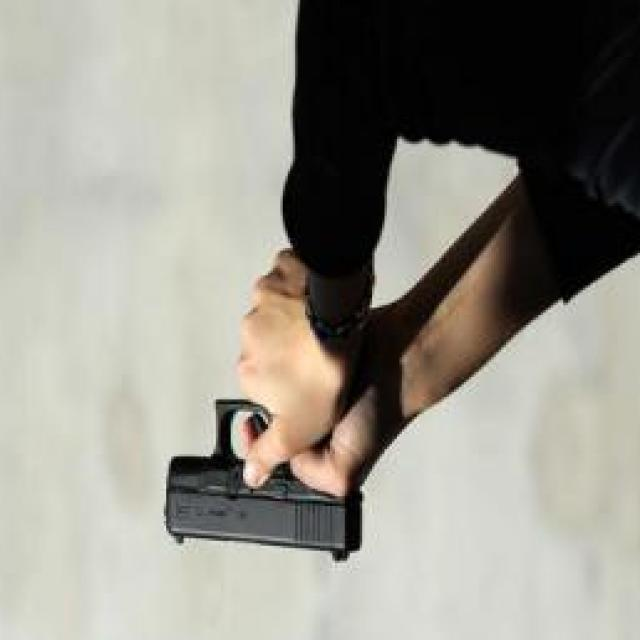pistol: (163, 390, 364, 563)
